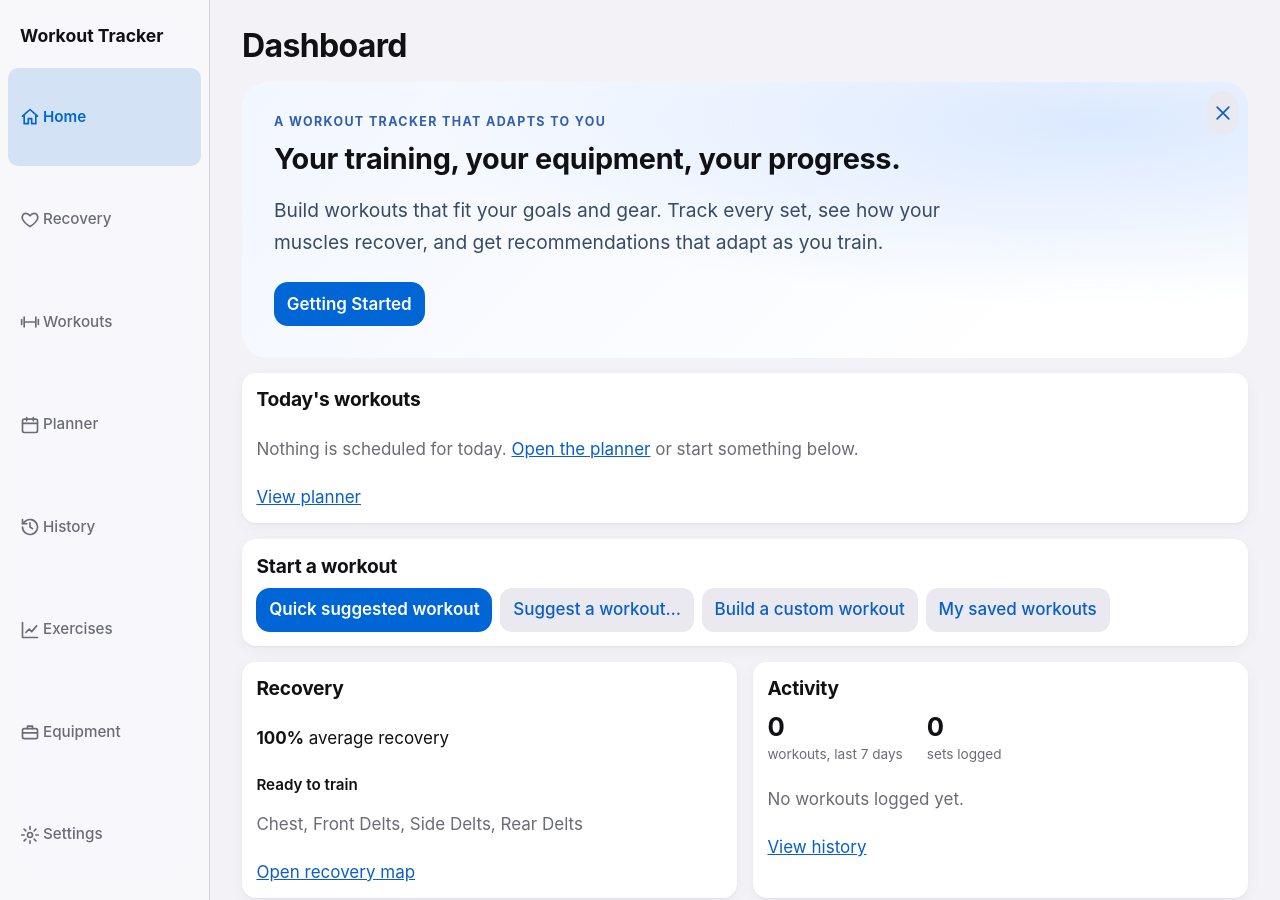
Test: home dashboard › shows dashboard cards and a welcome card that can be dismissed, persisted, and restored
This screenshot has width=1280, height=900.
expect the navigation bar named "Main" is shown: met, box 0,0 -> 210,899
expect the heading "Dashboard" is shown: met, box 242,26 -> 407,65
Click the button "Getting Started": (349, 304) 274,282 -> 424,326
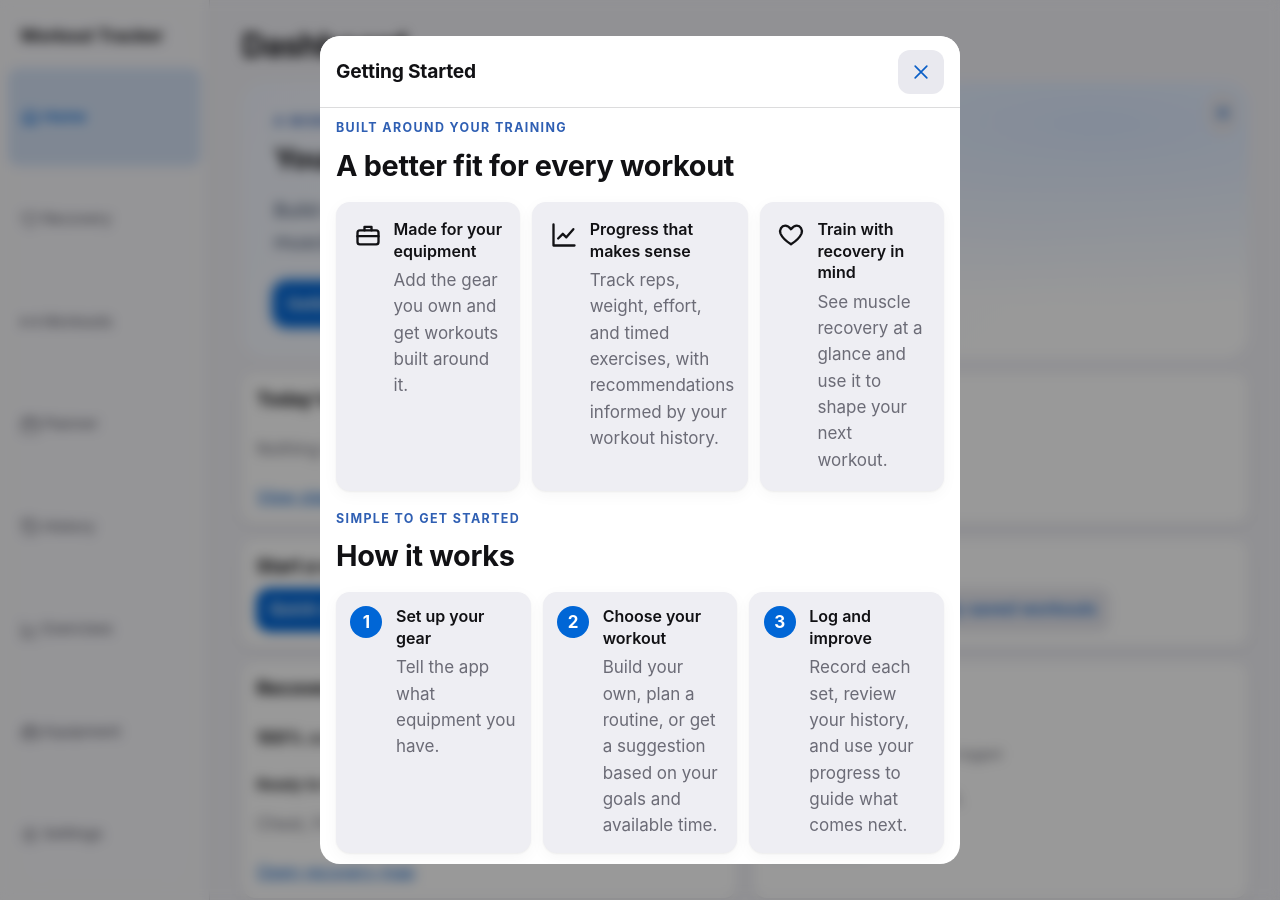
expect the heading "How it works" is shown: met, box 336,538 -> 515,573
Click the button named "Close": (921, 72) 898,50 -> 944,94
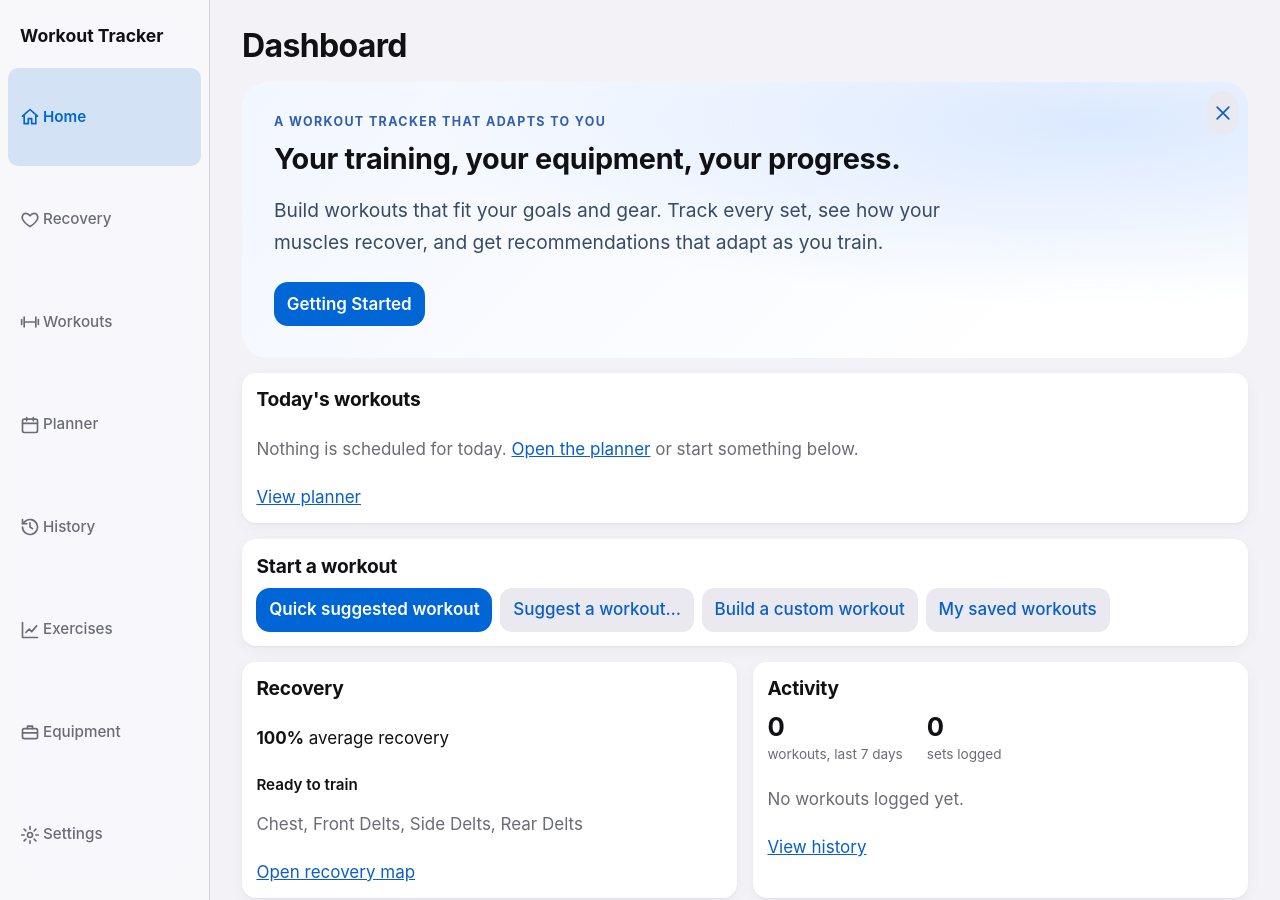
Click the button named "Close welcome card": (1223, 113) 1207,91 -> 1238,135
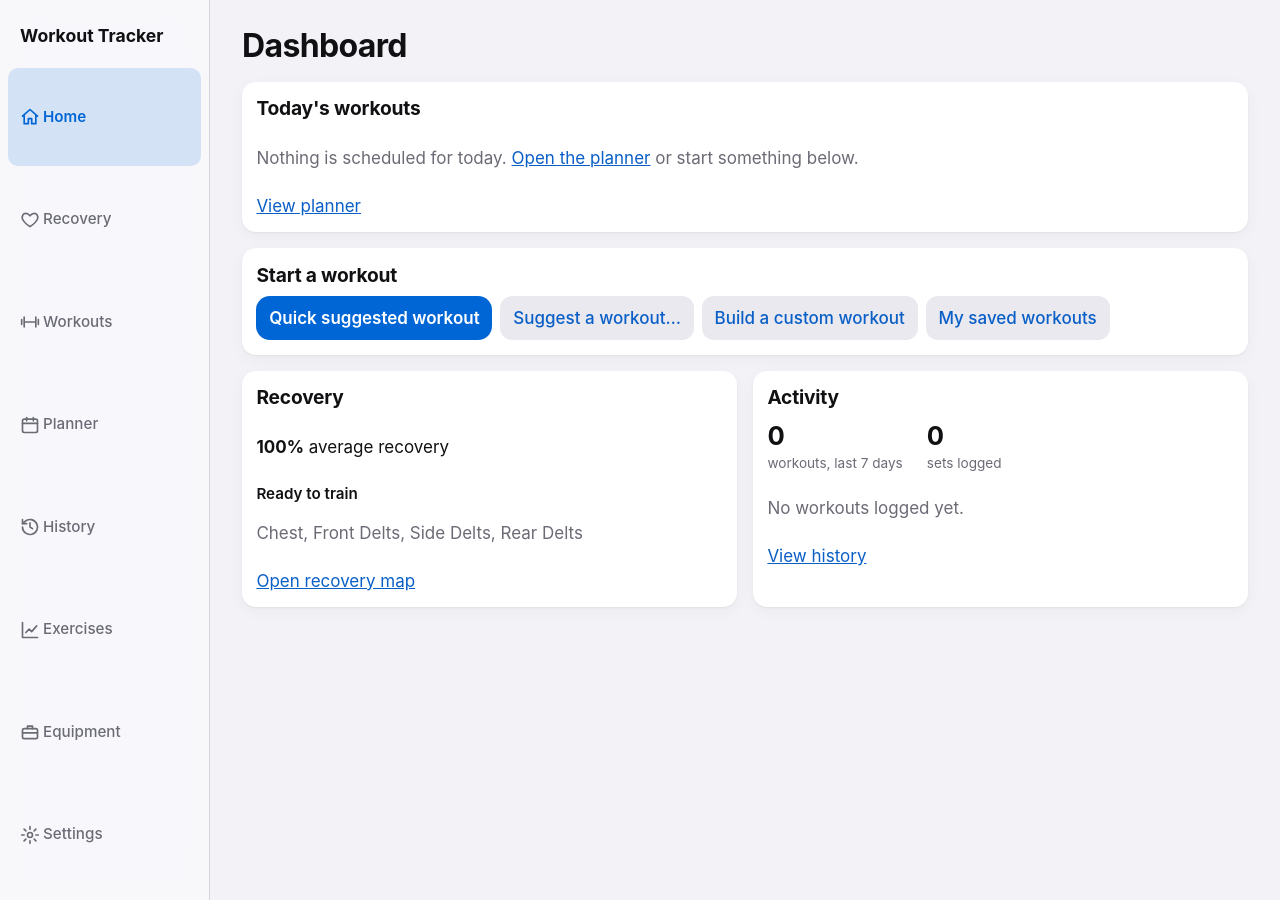
expect the text "A workout tracker that adapts to you" is gone: met
Click the link "Settings": (61, 835) 20,824 -> 103,845
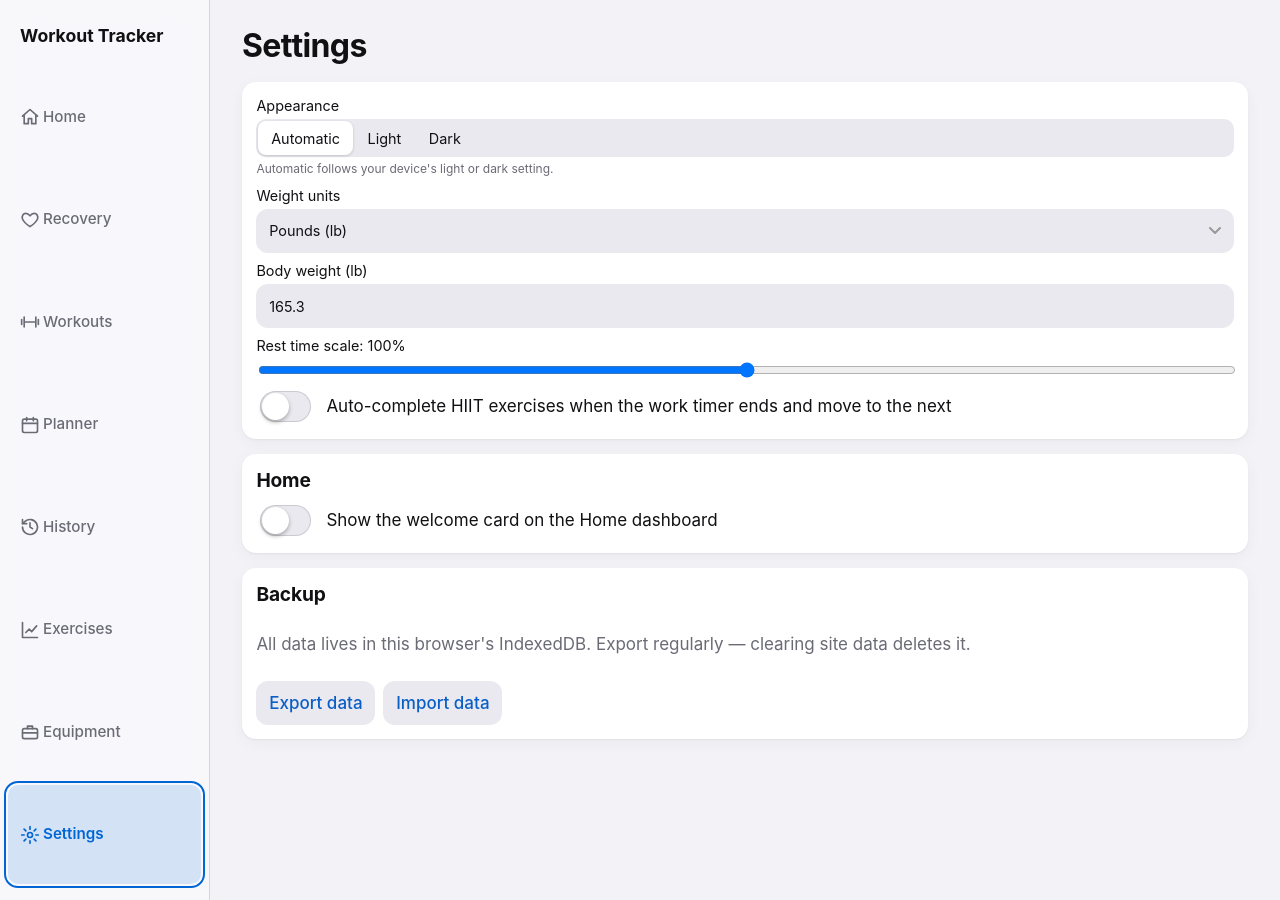
Click the checkbox labelled "Show the welcome card on the Home dashboard": (286, 520) 260,505 -> 311,536
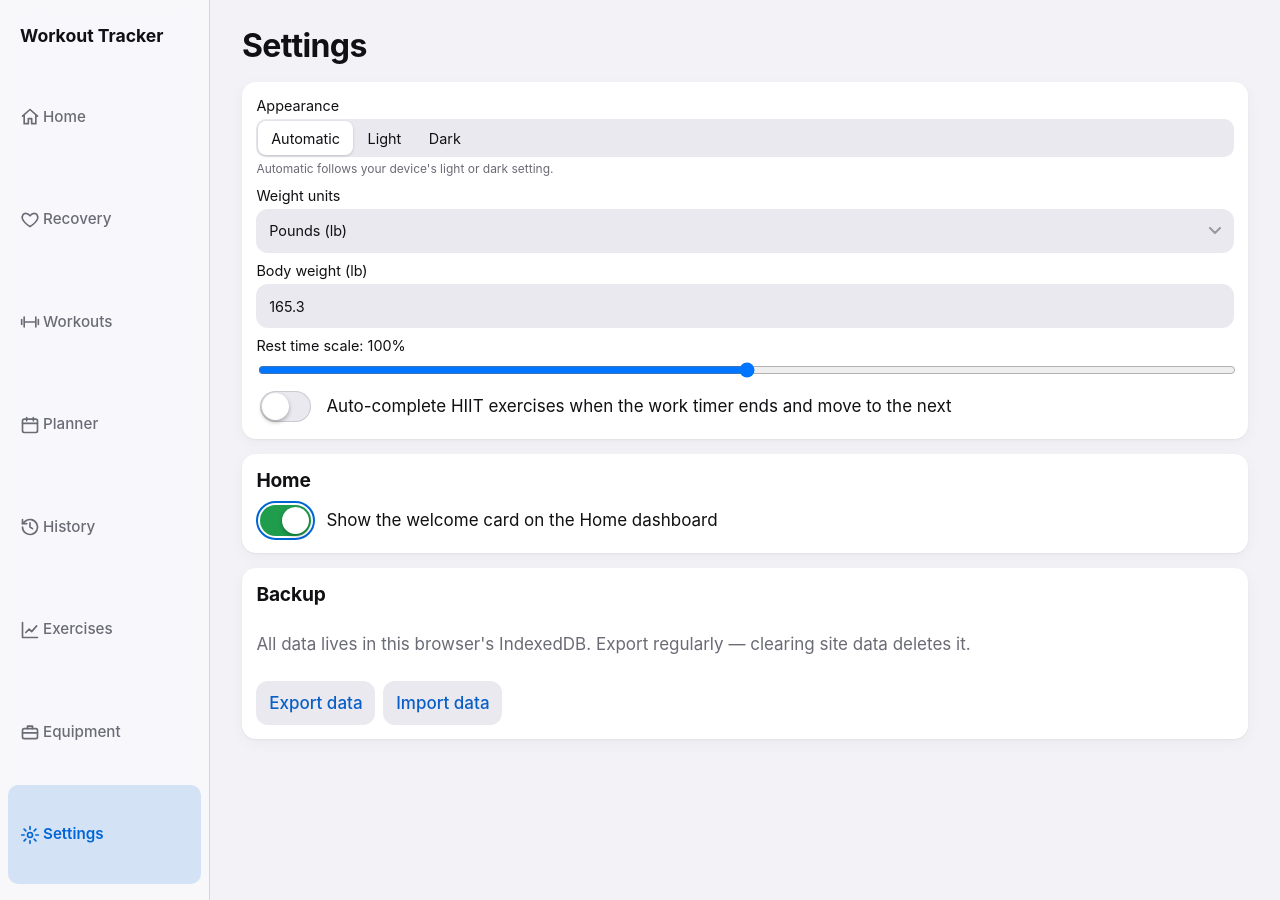
Click the link "Home": (53, 117) 20,107 -> 86,127
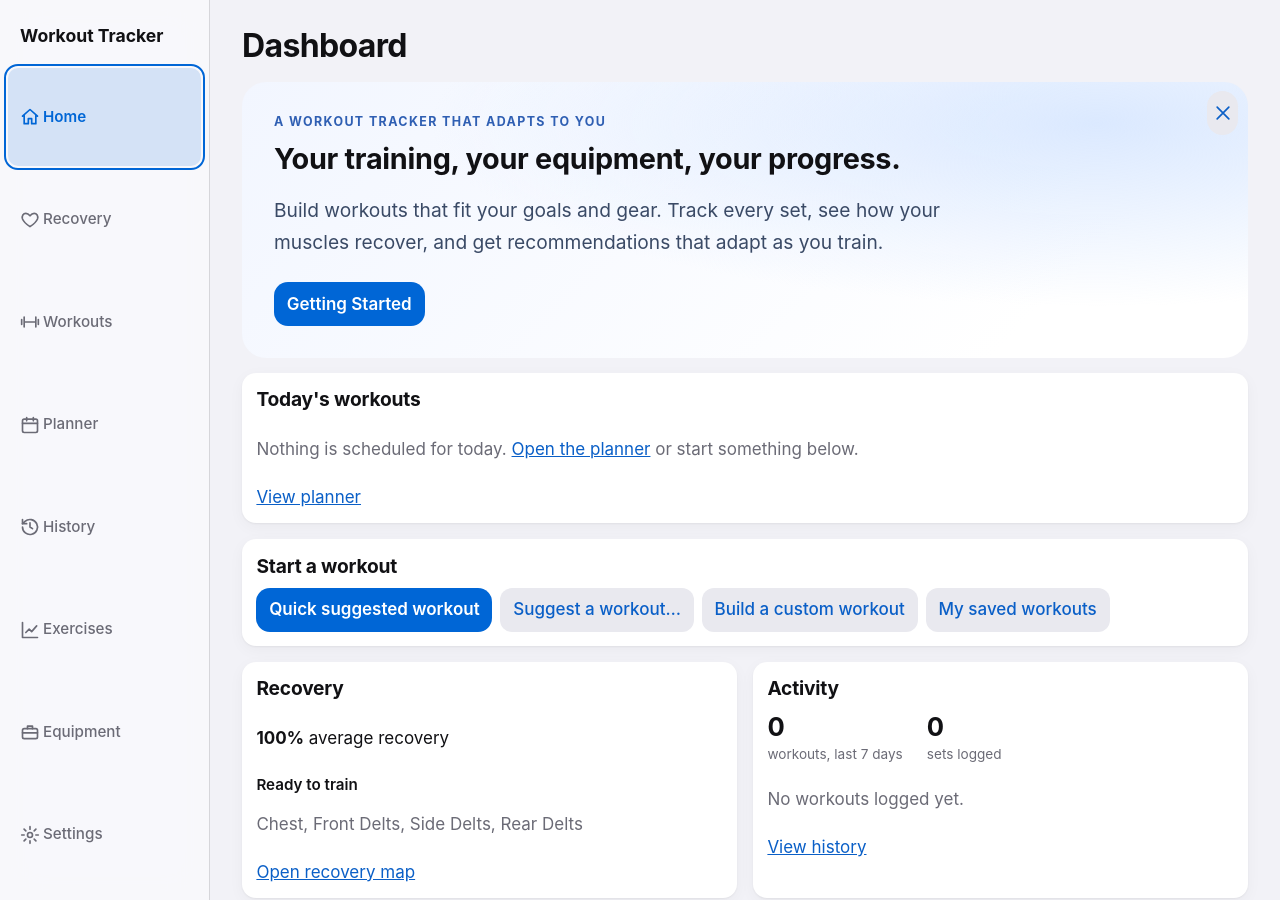
expect the text "A workout tracker that adapts to you" is shown: met, box 274,114 -> 606,129
